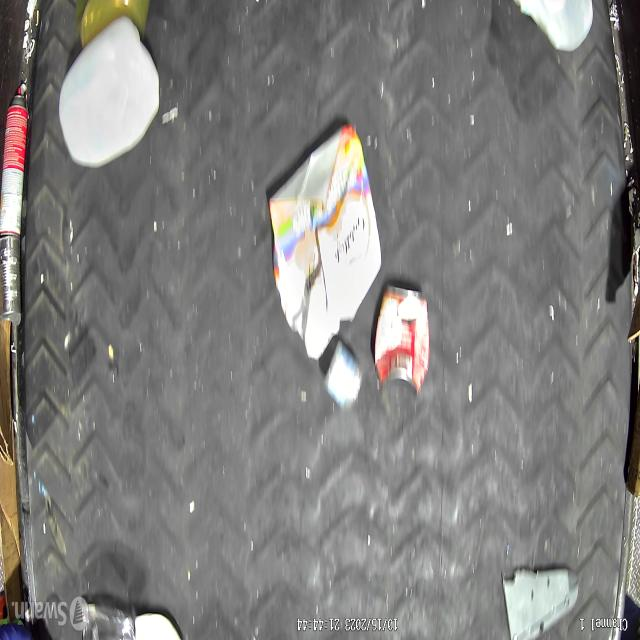can: (373, 283, 430, 401), (0, 86, 29, 234), (0, 233, 22, 323)
milk_jug: (57, 16, 161, 170)
